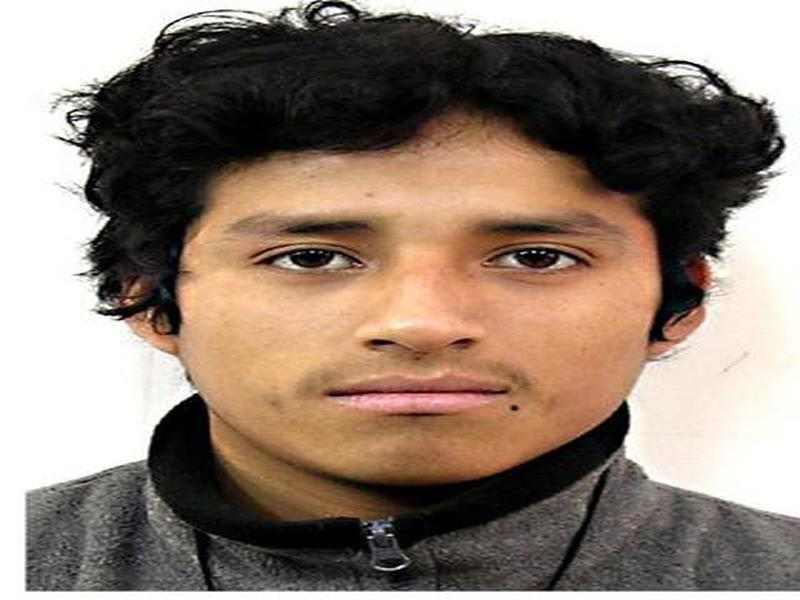without_mask: (191, 140, 638, 474)
